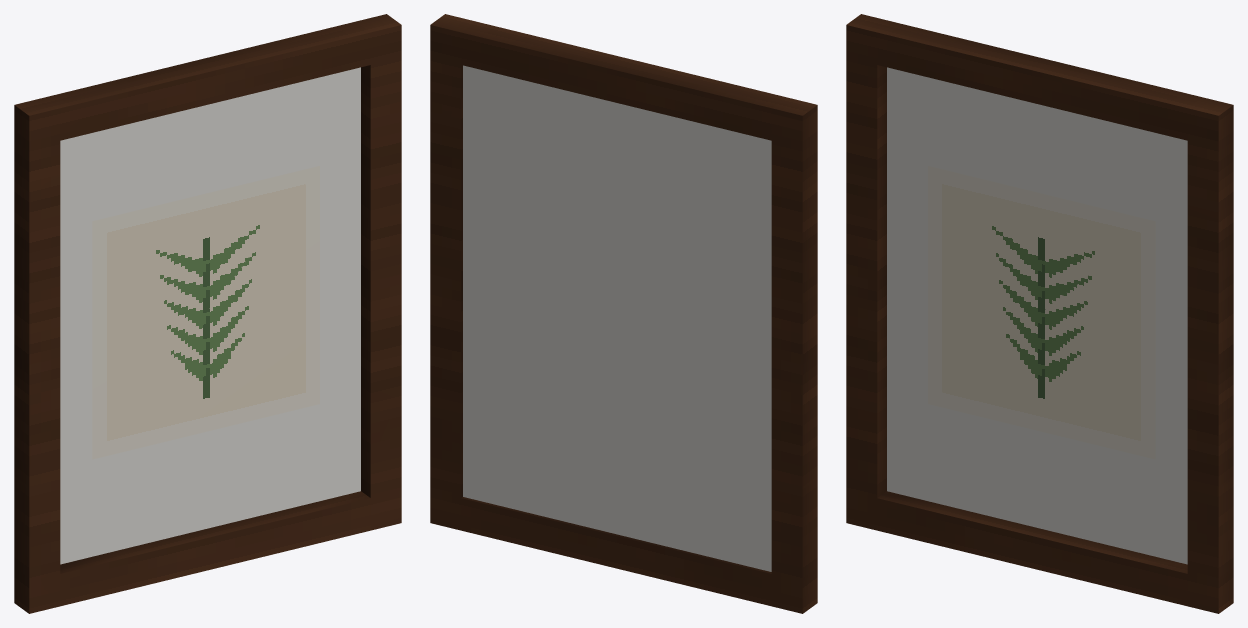
File: picture_frame_d.glb
3 renders of one model, left to right at view 1: azimuth 30°, elevation 25°; view 2: azimuth 150°, elevation 25°; view 3: azimuth 330°, elevation 25°, orthographic.
Parts seen in each view (by area): view 1: body, panels; view 2: body; view 3: body, panels.
Boxes of the visible parts, box(x1,y1,x2,y2) form: body: box(14, 14, 401, 613); panels: box(92, 166, 319, 459); body: box(430, 14, 817, 613); body: box(846, 14, 1233, 613); panels: box(928, 166, 1155, 459).
Bounding box in the file's own units: 0.36 × 0.46 × 0.025.
3 materials, 2 textured.
